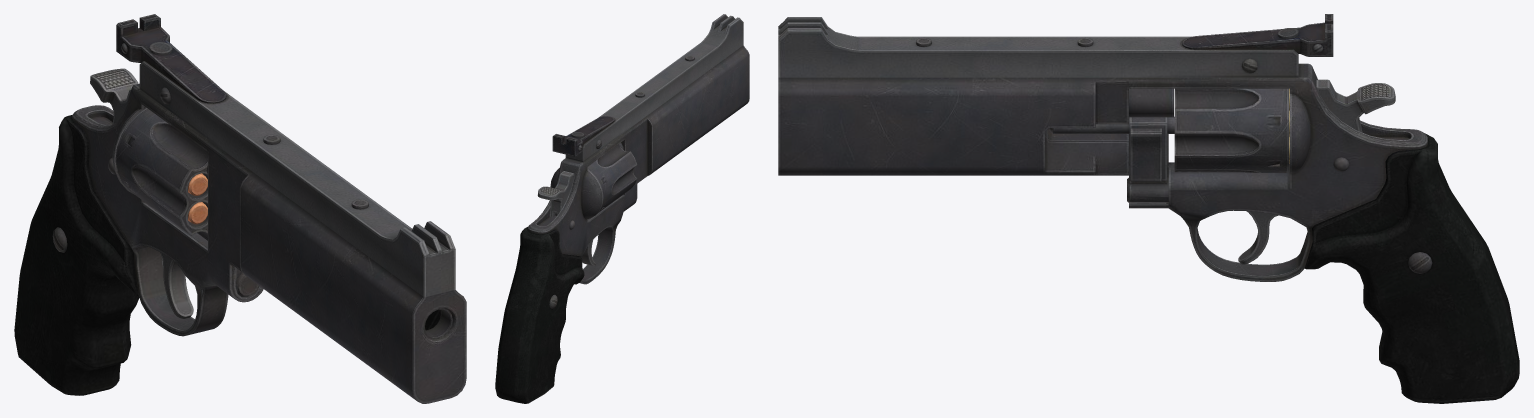
Rendered from revolver.glb.
3 views of the same model, side by side, from view 1: azimuth 30°, elevation 25°; view 2: azimuth 150°, elevation 25°; view 3: azimuth 270°, elevation 25° (orthographic). The views are drawn at different scales.
Visible parts, largest first — view 1: base, clip, hammer, trigger, release; view 2: base, clip, hammer; view 3: base, clip, release, hammer, trigger, ejector.
Boxes of the visible parts, left/top/right/bottom form: base: left=14, top=14, right=466, bottom=403; clip: left=115, top=108, right=207, bottom=240; hammer: left=90, top=68, right=138, bottom=123; trigger: left=160, top=252, right=193, bottom=318; release: left=235, top=268, right=258, bottom=296; base: left=495, top=14, right=749, bottom=403; clip: left=587, top=143, right=637, bottom=212; hammer: left=537, top=171, right=574, bottom=217; base: left=778, top=14, right=1519, bottom=403; clip: left=1174, top=88, right=1288, bottom=172; release: left=1127, top=117, right=1168, bottom=202; hammer: left=1316, top=79, right=1395, bottom=132; trigger: left=1238, top=211, right=1278, bottom=264; ejector: left=1048, top=116, right=1174, bottom=133.
Size of the model in its own units: 5.02 by 21 by 38.1.
Materials: 1 (1 with a texture image).
